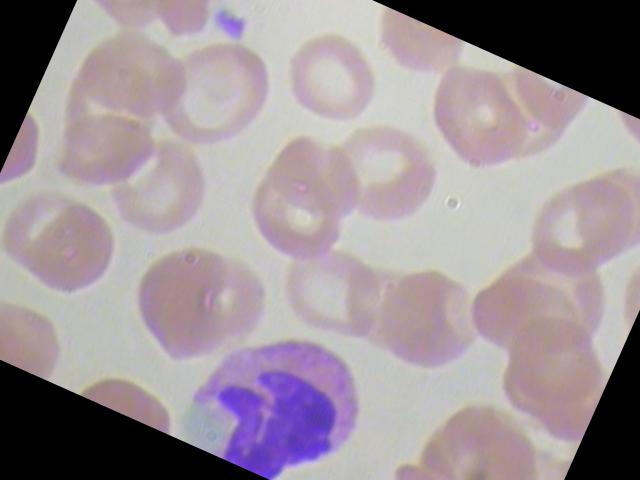Red Blood Cells: (136, 17, 284, 171), (304, 102, 452, 240), (406, 50, 549, 192), (59, 11, 202, 152), (258, 220, 400, 360), (361, 253, 500, 394), (94, 119, 228, 257), (10, 185, 140, 319), (514, 163, 639, 298), (262, 15, 393, 140), (0, 286, 86, 387)
